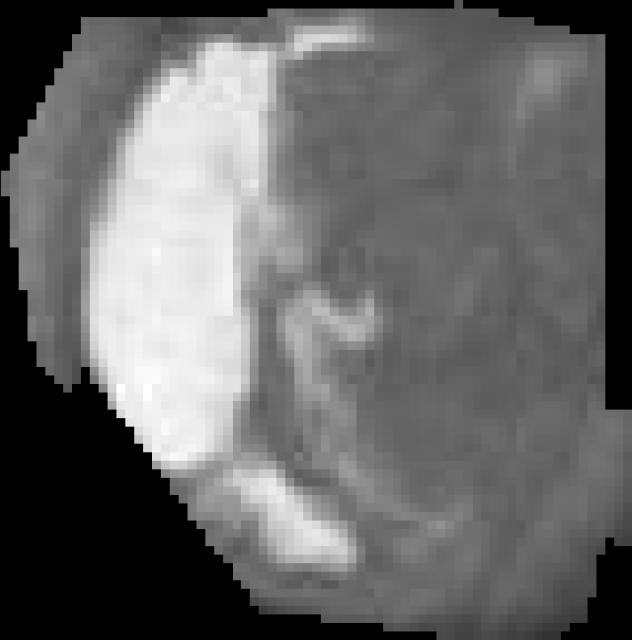tumor_good_chance: (1, 0, 632, 640)
